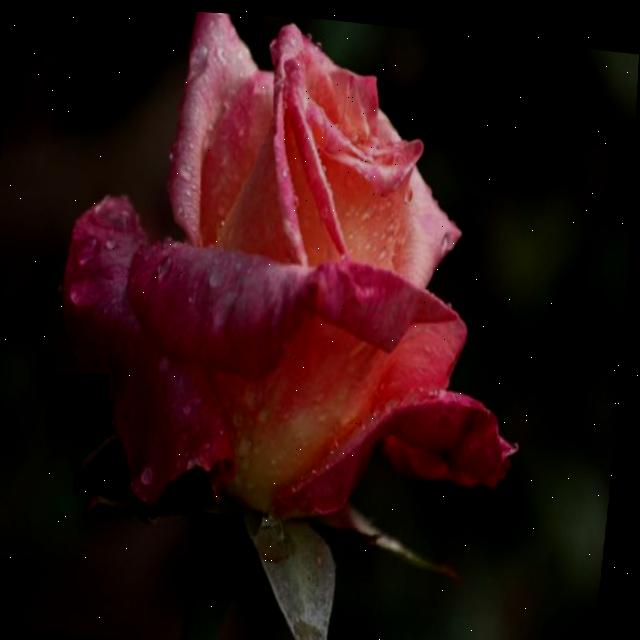rose: (34, 3, 575, 605)
